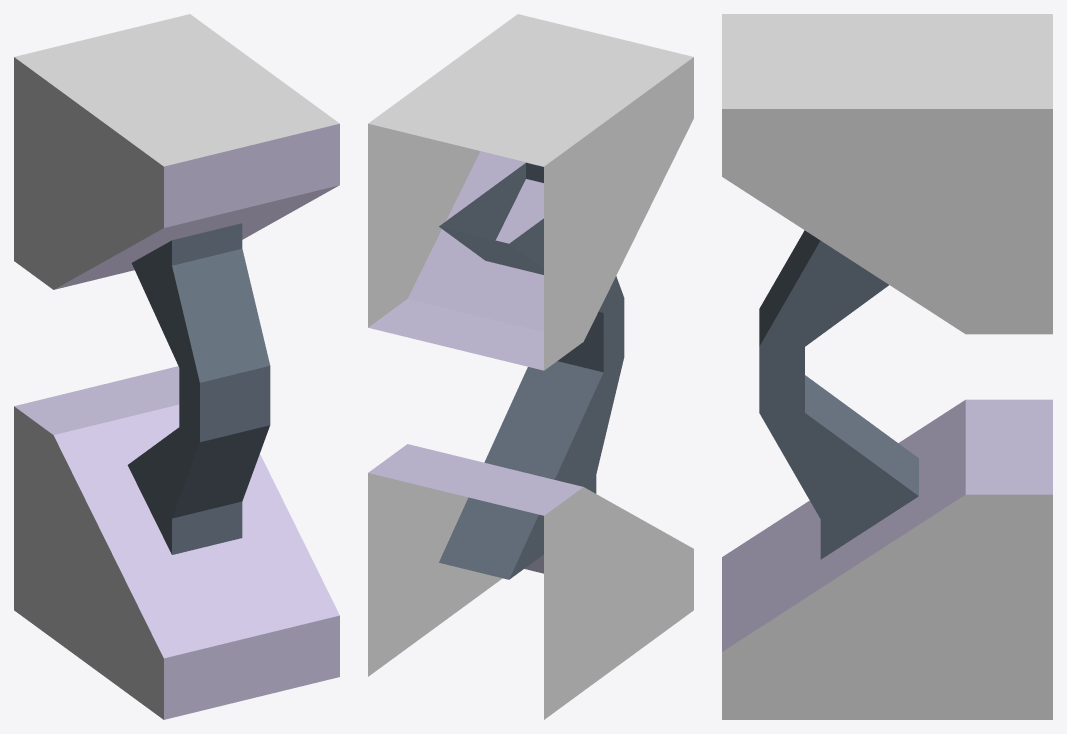
The model's file is Environment_Wall_Prop_2.fbx.
3 views of the same model, side by side, from view 1: azimuth 30°, elevation 25°; view 2: azimuth 150°, elevation 25°; view 3: azimuth 270°, elevation 25° (orthographic). The views are drawn at different scales.
Visible parts, largest first — view 1: Wall_Prop_2; view 2: Wall_Prop_2; view 3: Wall_Prop_2.
Boxes of the visible parts, x1=… form: Wall_Prop_2: x1=14, y1=14, x2=339, y2=719; Wall_Prop_2: x1=368, y1=14, x2=693, y2=719; Wall_Prop_2: x1=722, y1=14, x2=1052, y2=719.
Bounding box in the file's own units: 133 × 400 × 196.
